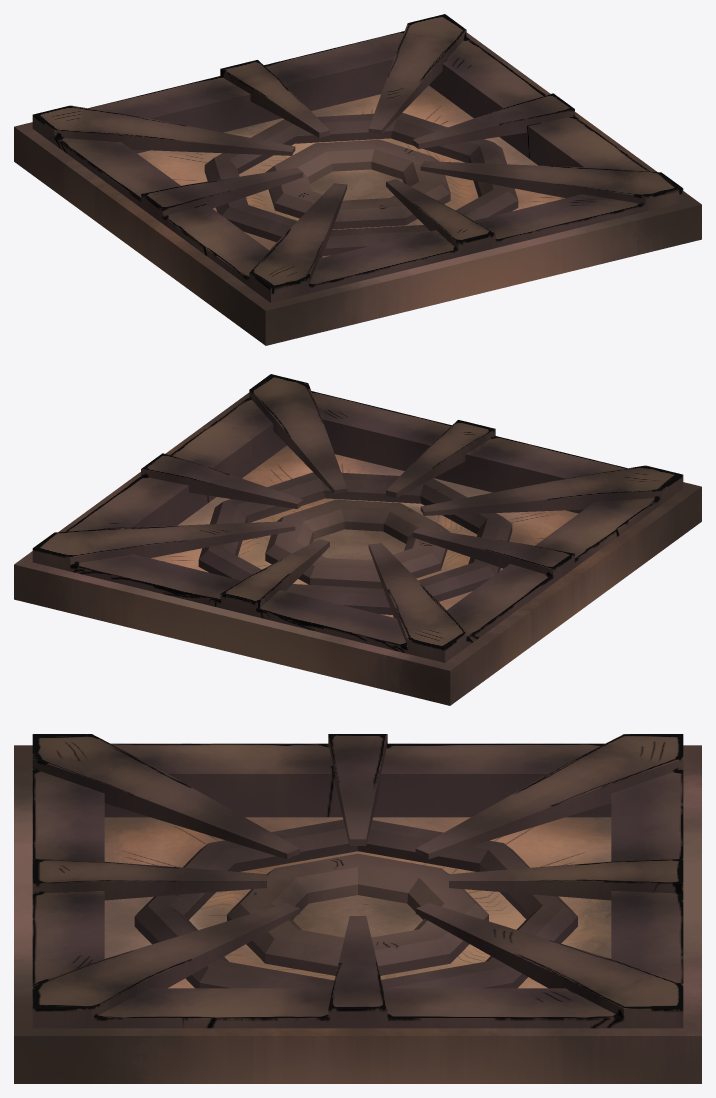
The model's file is Station_Hornalla.fbx.
The picture shows the model from 3 angles, top to bottom: view 1: azimuth 30°, elevation 25°; view 2: azimuth 150°, elevation 25°; view 3: azimuth 270°, elevation 25°; orthographic projection. The views are drawn at different scales.
Parts seen in each view (by area): view 1: m_Hornalla; view 2: m_Hornalla; view 3: m_Hornalla.
Boxes of the visible parts, x1,y1,x2,y2 form: m_Hornalla: [14, 14, 701, 345]; m_Hornalla: [14, 374, 701, 705]; m_Hornalla: [14, 734, 701, 1083].
Size of the model in its own units: 131 by 14.08 by 131.
2 materials, 2 textured.
